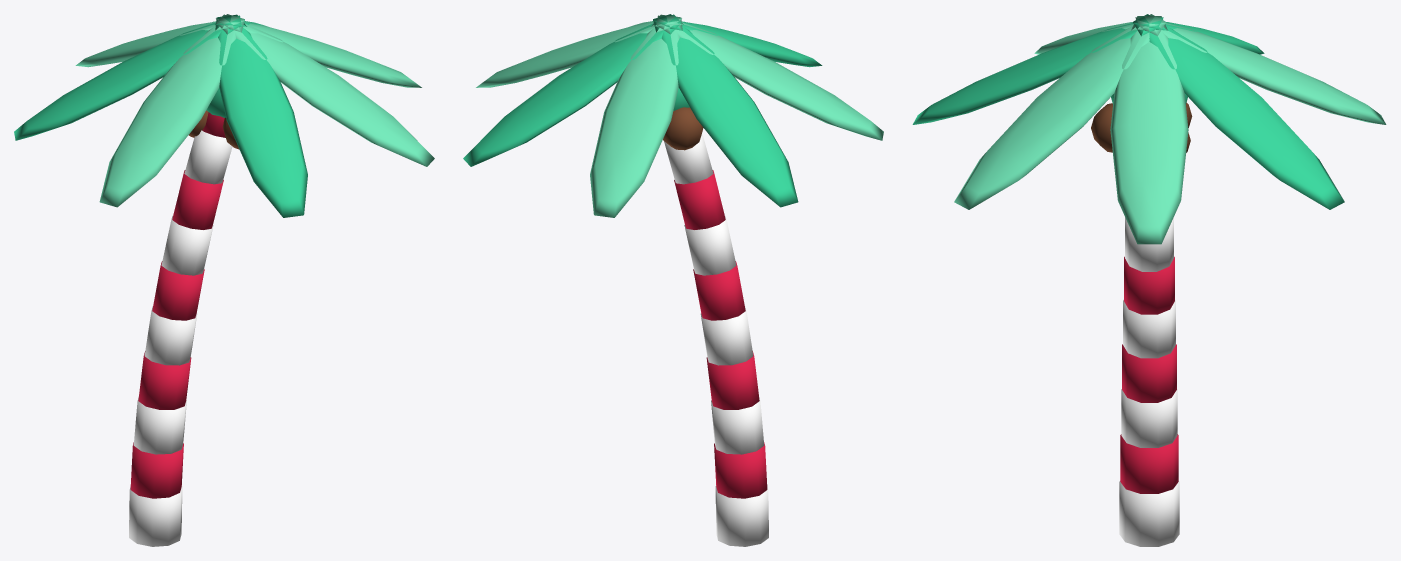
Rendered from tree-cane-palm.glb.
The picture shows the model from 3 angles, left to right: view 1: azimuth 30°, elevation 25°; view 2: azimuth 150°, elevation 25°; view 3: azimuth 270°, elevation 25°; orthographic projection. The views are drawn at different scales.
Visible parts, largest first — view 1: tree-cane-palm; view 2: tree-cane-palm; view 3: tree-cane-palm.
Boxes of the visible parts, bbox=[...] form: tree-cane-palm: bbox=[14, 14, 434, 546]; tree-cane-palm: bbox=[463, 14, 883, 546]; tree-cane-palm: bbox=[912, 14, 1386, 546].
Size of the model in its own units: 1.54 by 2.03 by 1.58.
Materials: 1 (1 with a texture image).
